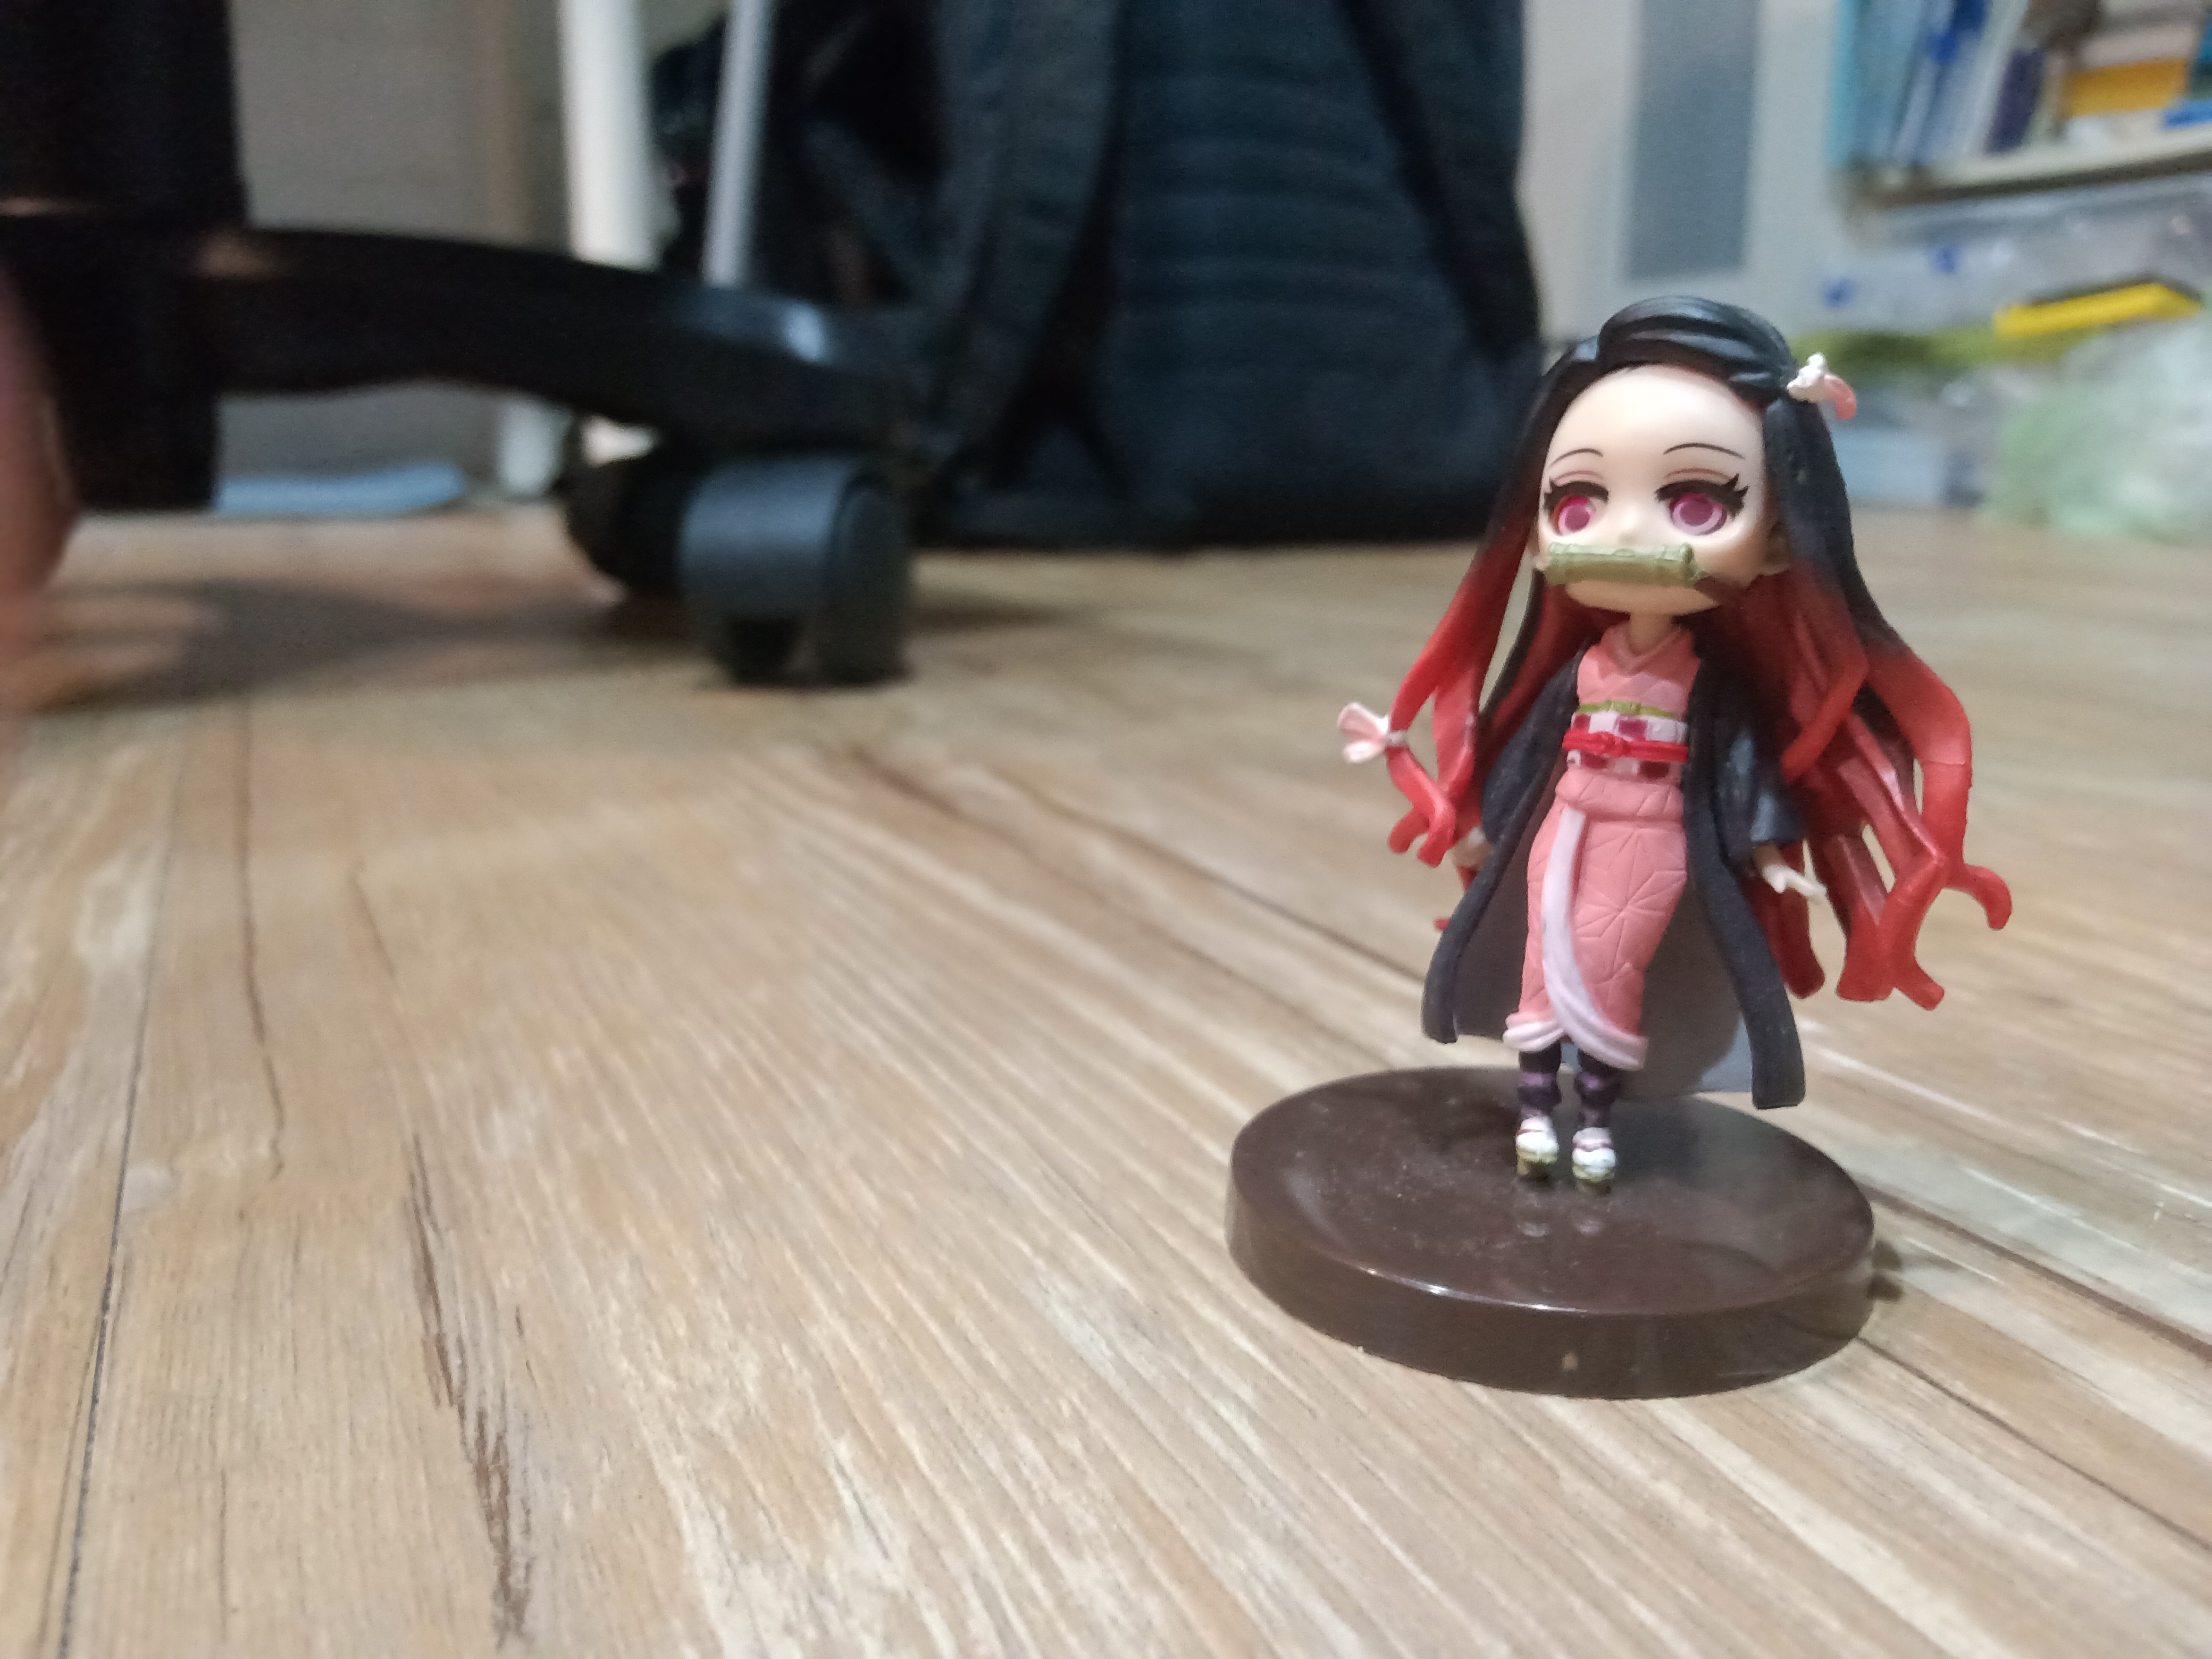Nezuko: (1221, 267, 2031, 1425)
